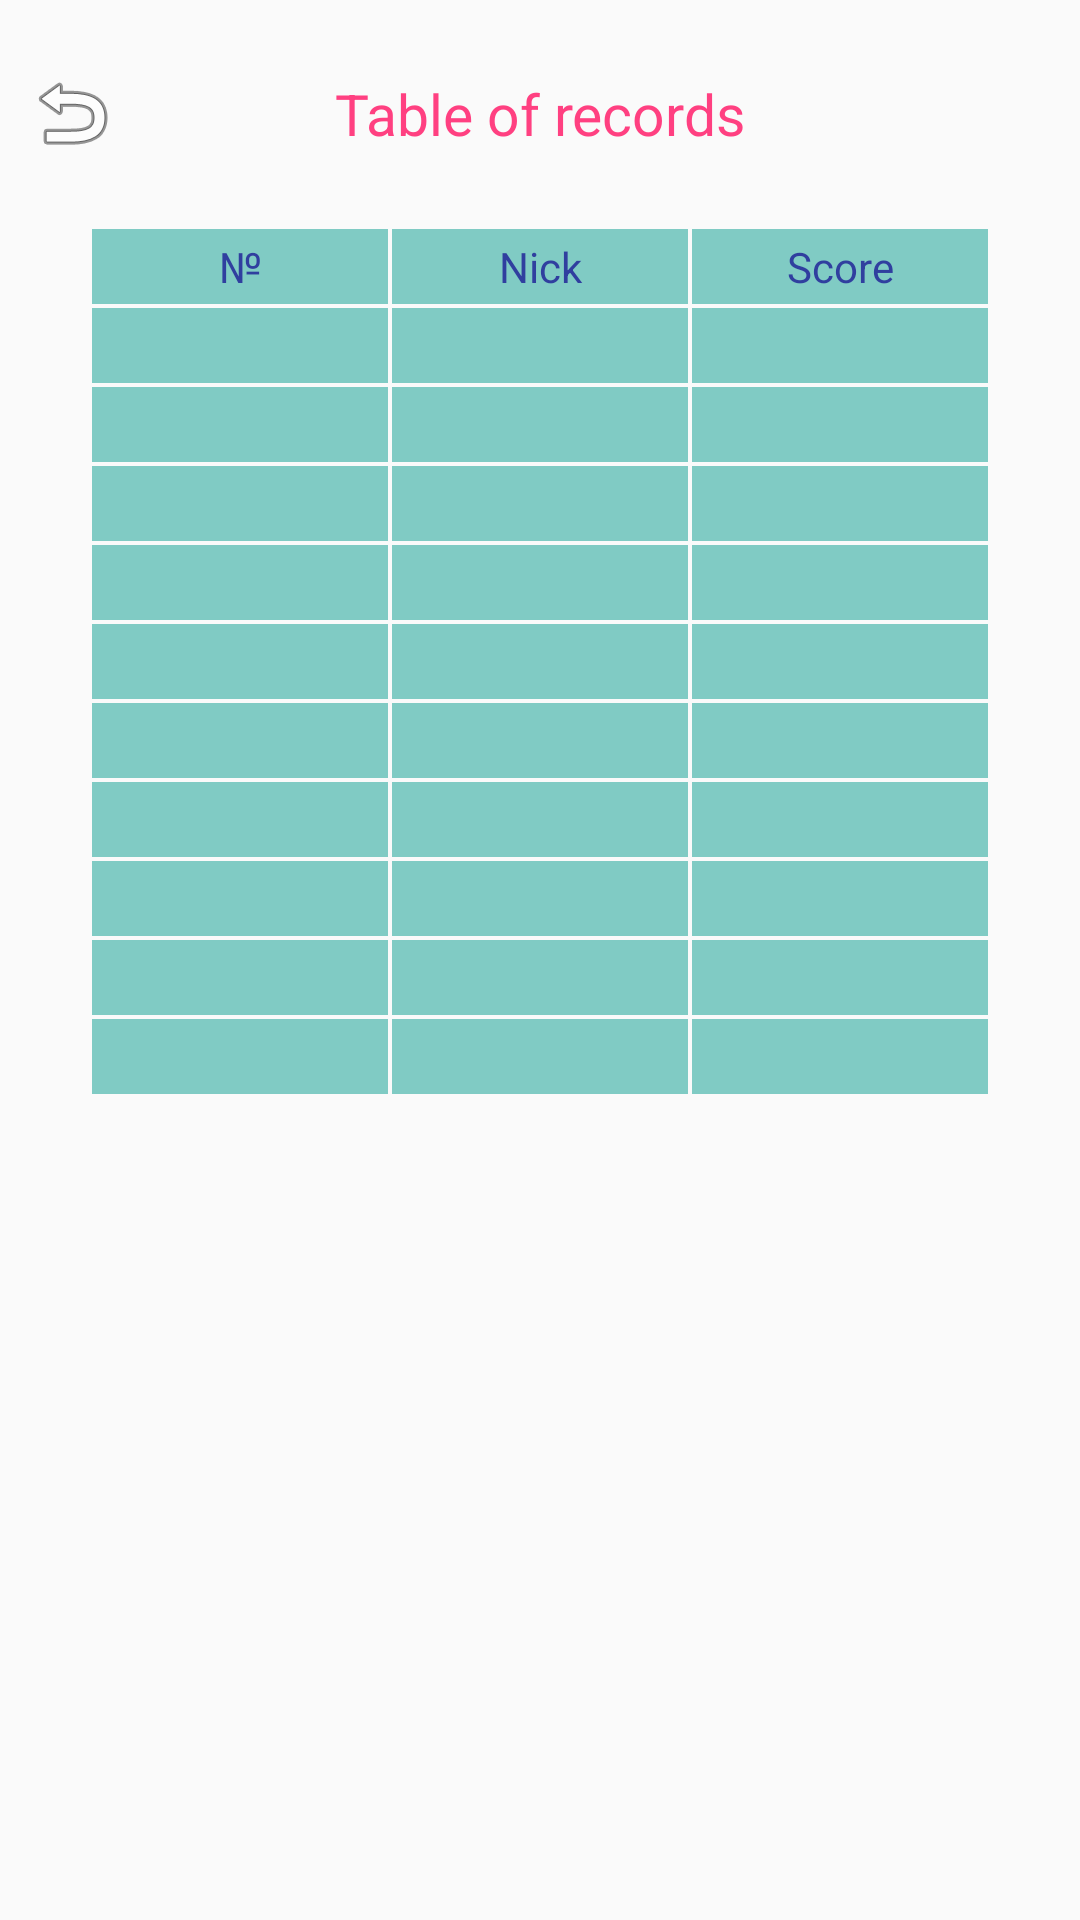

Icons on this 1080×1920 Android screen, each with its box as [x1=x1, y1=y1, x2=x2, y2=y2]:
revert: [x1=39, y1=82, x2=108, y2=145]
